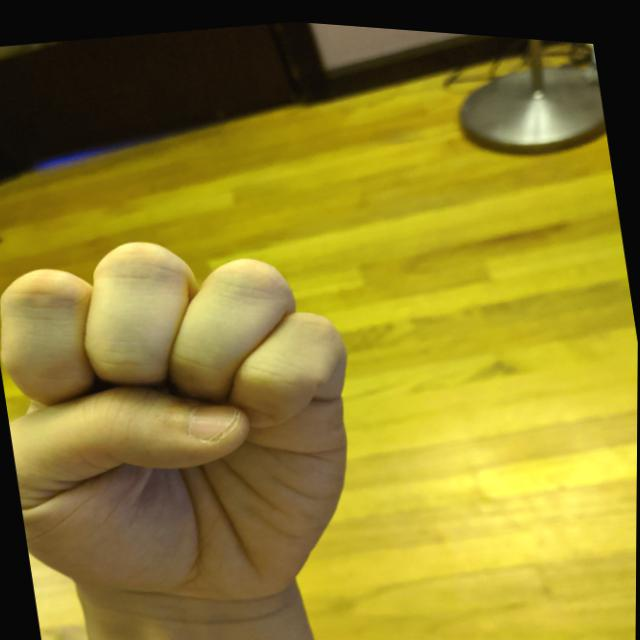E: (0, 193, 395, 634)
